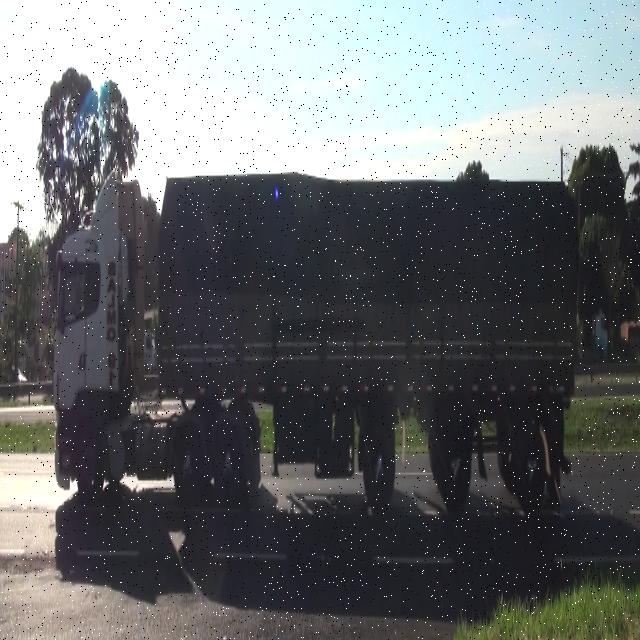-axle: (436, 418, 473, 509), (208, 414, 242, 509), (510, 418, 546, 503), (170, 418, 204, 503), (362, 426, 395, 512), (72, 426, 107, 501)
